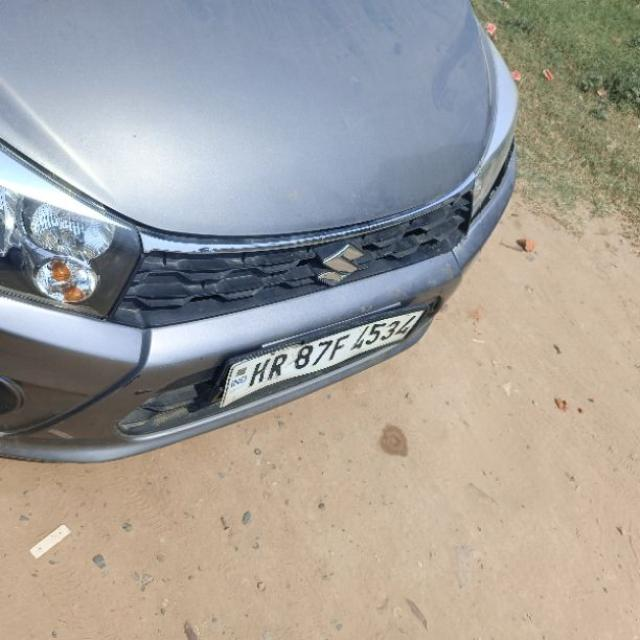license_plate: (215, 297, 434, 409)
